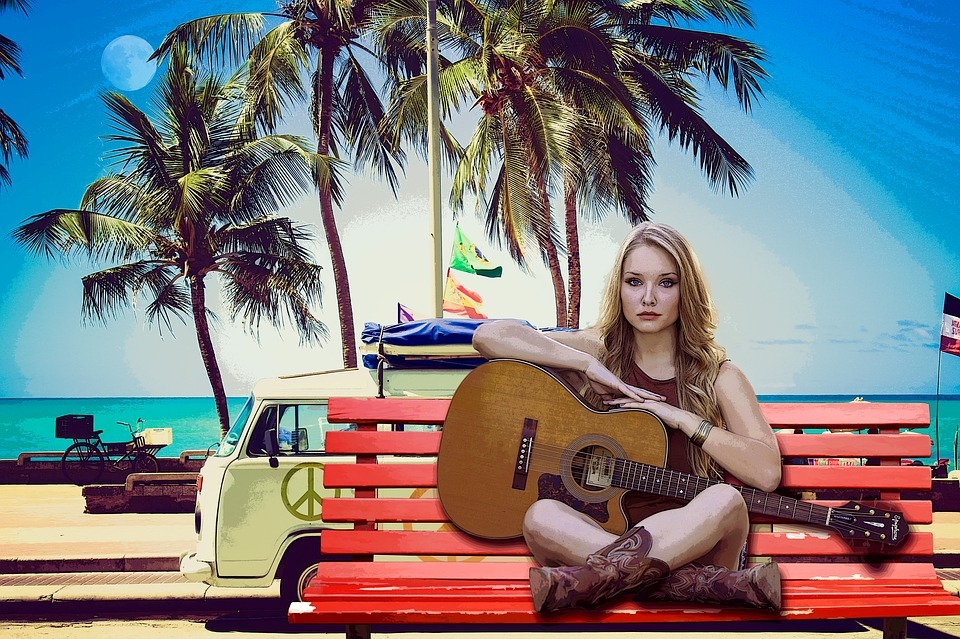bicycle: (47, 400, 176, 485)
car: (170, 368, 466, 585)
person: (461, 213, 811, 632)
